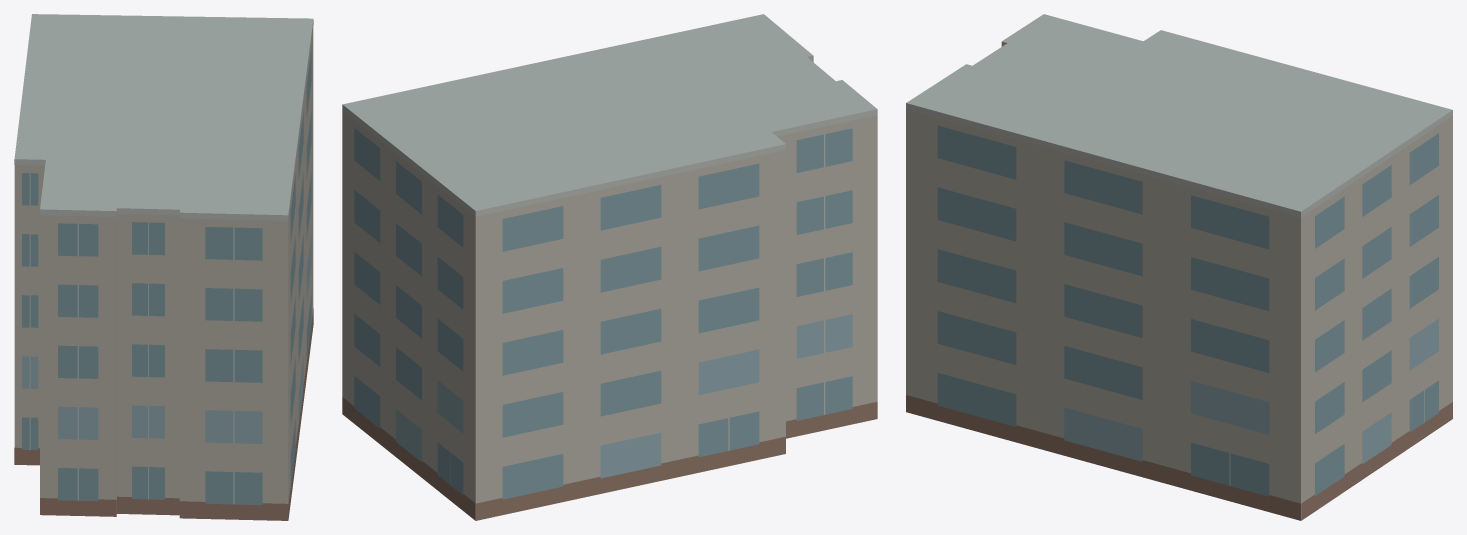
Rendered from survey-upis-33044314.glb.
The picture shows the model from 3 angles, left to right: view 1: azimuth 30°, elevation 25°; view 2: azimuth 150°, elevation 25°; view 3: azimuth 270°, elevation 25°; orthographic projection.
Parts seen in each view (by area): view 1: survey-upis-33044314.tmp; view 2: survey-upis-33044314.tmp; view 3: survey-upis-33044314.tmp.
Part boxes in pixels (x1,y1,x2,y2): survey-upis-33044314.tmp: [14, 14, 313, 520]; survey-upis-33044314.tmp: [342, 14, 877, 520]; survey-upis-33044314.tmp: [906, 14, 1452, 520].
Bounding box in the file's own units: 17.92 × 13.05 × 20.93.
